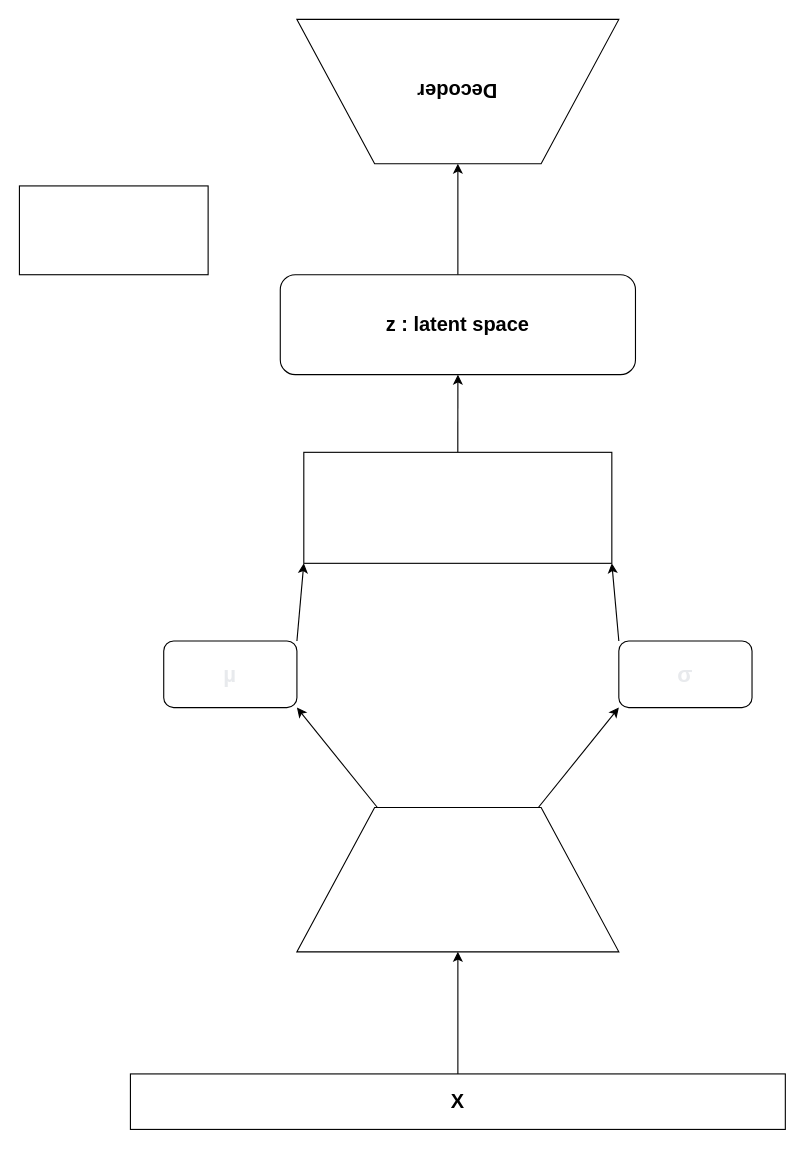
This 805x1149 diagram has some shape labels left out. Here are the shapes that lost their labels. From the top down, the box of each, then its label:
(18, 185, 208, 275): z = µ×k 1 + σ×k 2
(303, 451, 612, 563): SamplingLayer z = e µ×0.5 ×ɛ + σ
(296, 806, 619, 952): Encoder
